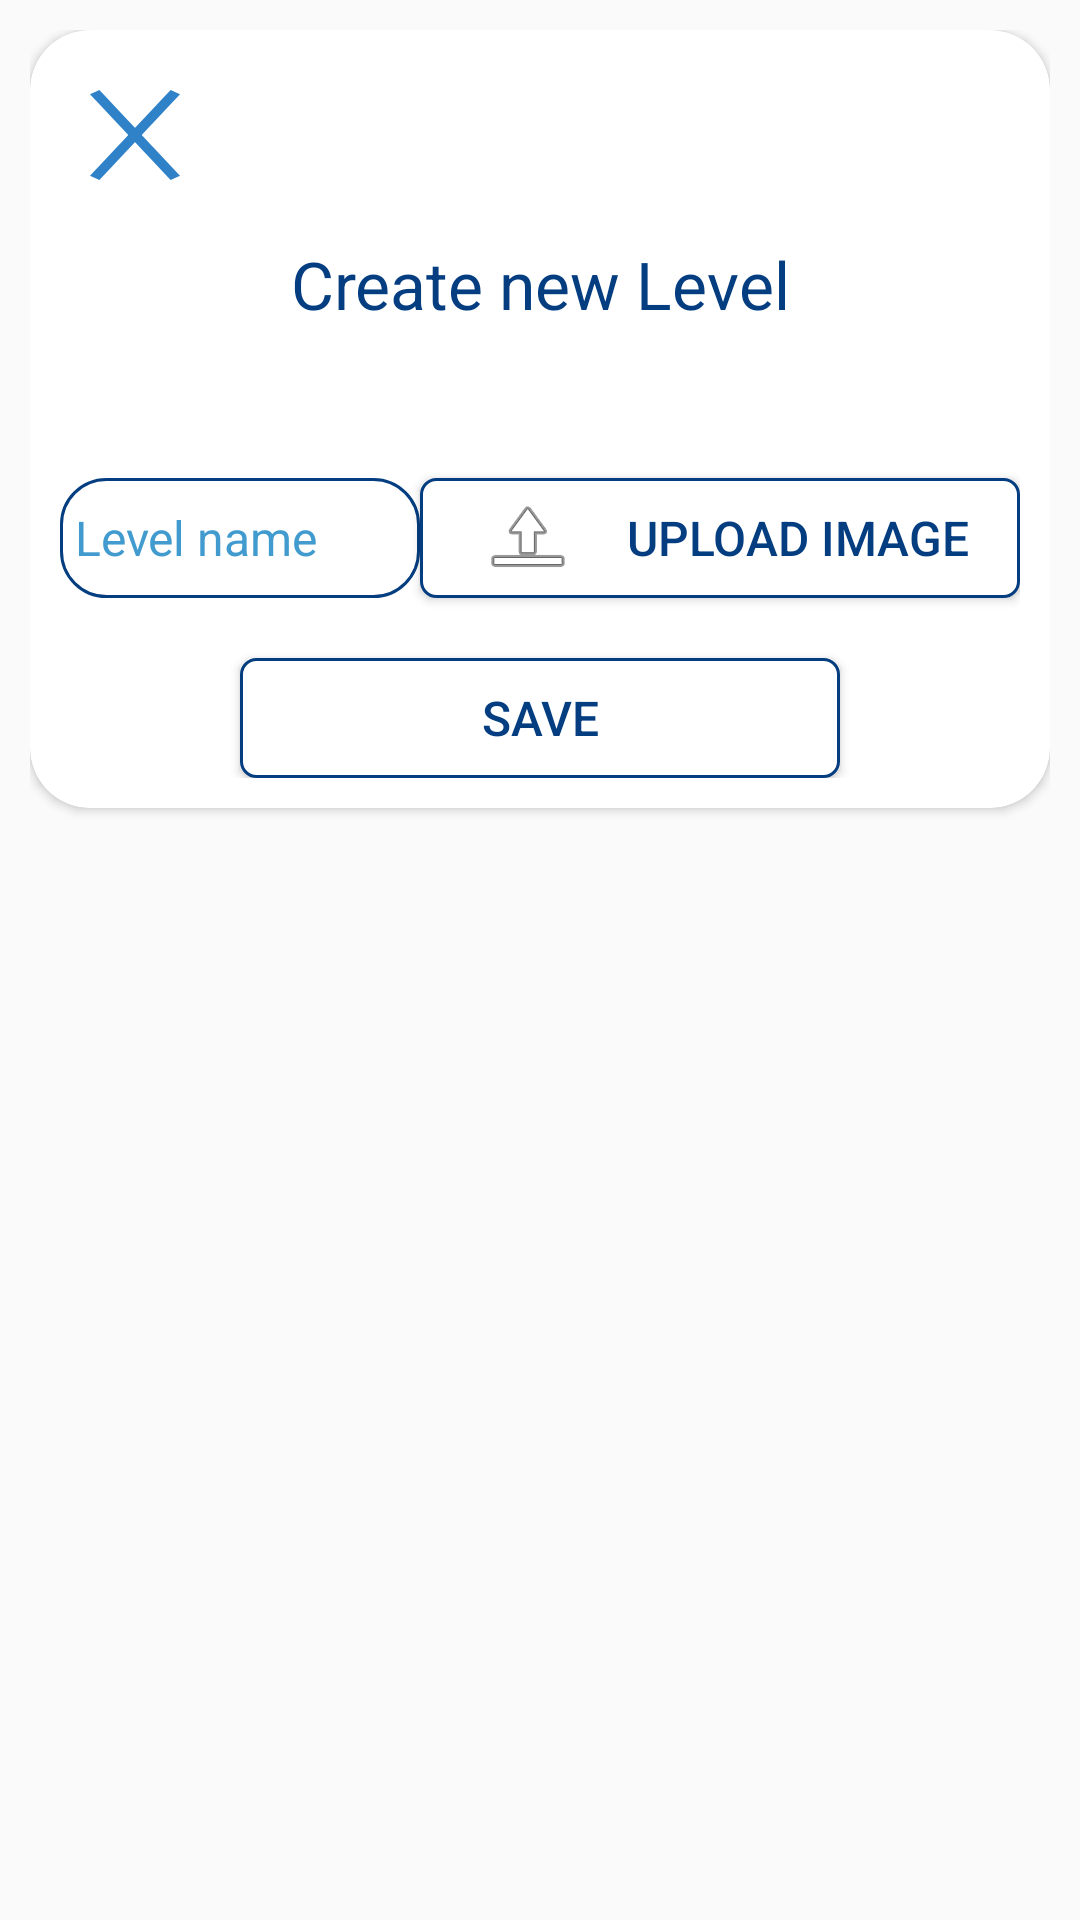

Point at icon controls on the screen. Image size 1080 x 1920, points as [x,y].
close: [135,135]
